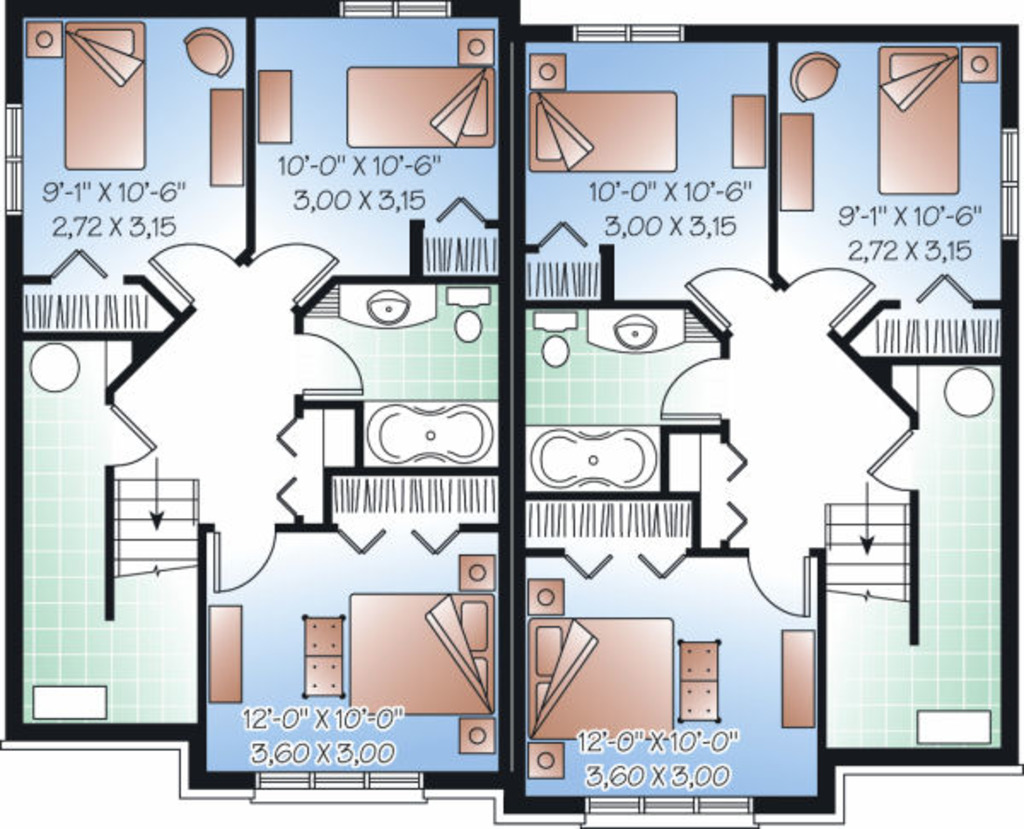bed: (520, 614, 690, 746), (342, 585, 504, 718), (337, 62, 509, 153), (873, 31, 961, 203), (522, 86, 682, 178), (60, 18, 152, 175)
door: (783, 246, 875, 341), (677, 252, 773, 341), (146, 234, 254, 311), (645, 346, 738, 426), (196, 521, 290, 598), (256, 234, 340, 320), (286, 322, 366, 399), (95, 396, 164, 475), (742, 549, 819, 617)
large_sink: (529, 308, 587, 372), (440, 281, 496, 345)
small_sink: (588, 300, 691, 354), (337, 285, 437, 331)
stairs: (822, 495, 931, 655), (110, 477, 198, 632)
tub: (518, 420, 668, 499), (354, 396, 504, 468)
window: (569, 794, 781, 829), (250, 770, 434, 805), (1, 102, 38, 214), (568, 17, 690, 46), (997, 125, 1024, 245), (332, 2, 460, 21)
